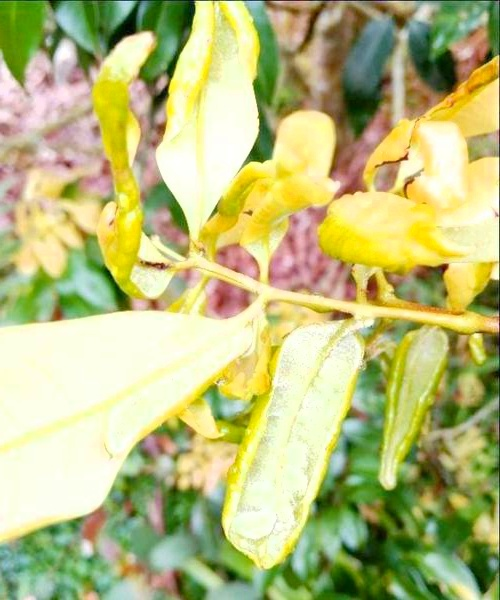Gall_Mite: (97, 307, 447, 561), (278, 45, 495, 282), (102, 22, 270, 273)
